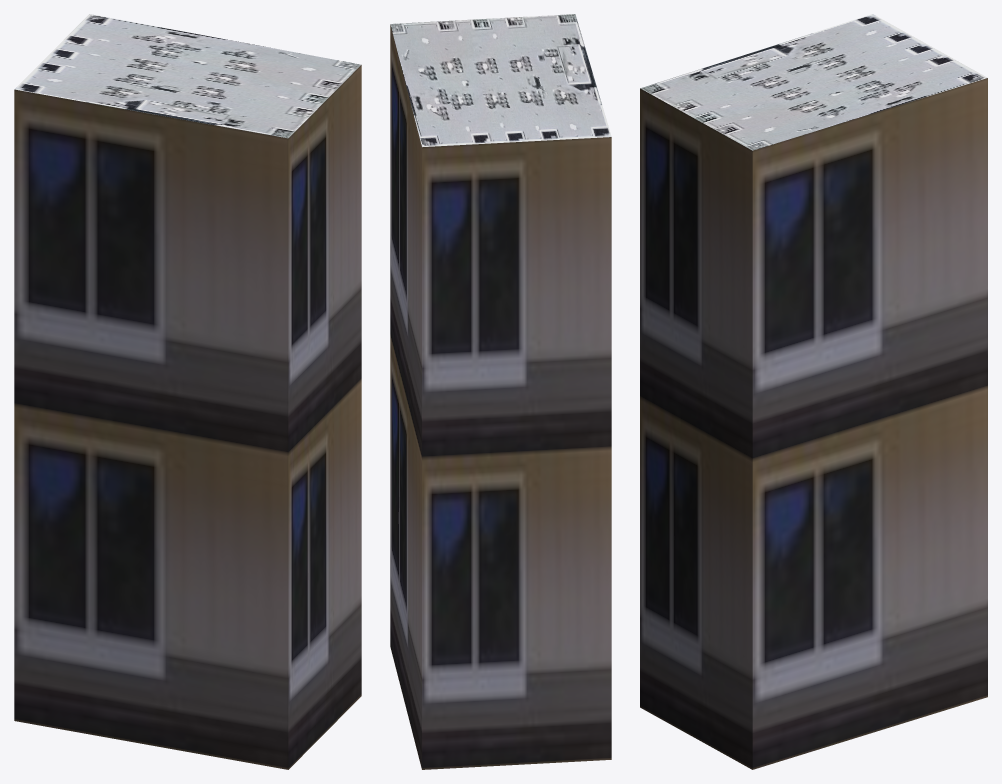
File: ResTex__2368.fbx
3 views of the same model, side by side, from view 1: azimuth 30°, elevation 25°; view 2: azimuth 150°, elevation 25°; view 3: azimuth 270°, elevation 25° (orthographic).
Parts seen in each view (by area): view 1: CityEngineMaterial_5_m, CityEngineMaterial_2_m; view 2: CityEngineMaterial_5_m, CityEngineMaterial_2_m; view 3: CityEngineMaterial_5_m, CityEngineMaterial_2_m.
Boxes of the visible parts, x1,y1,x2,y2 form: CityEngineMaterial_5_m: (14,65,361,769); CityEngineMaterial_2_m: (14,14,360,138); CityEngineMaterial_5_m: (390,25,611,769); CityEngineMaterial_2_m: (390,14,611,147); CityEngineMaterial_5_m: (640,78,987,769); CityEngineMaterial_2_m: (640,14,987,150).
Size of the model in its own units: 2.84 by 6 by 3.05.
Materials: 2 (2 with a texture image).
